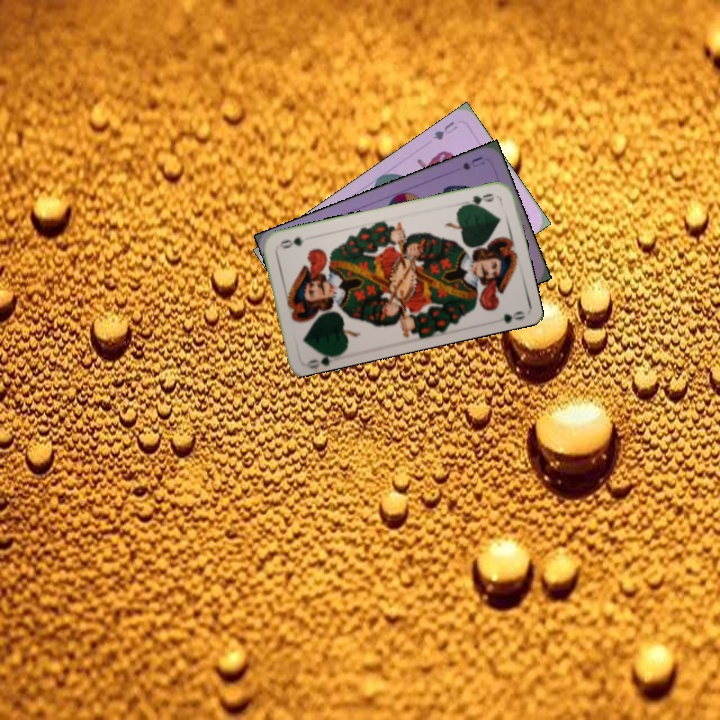GO: (303, 347, 342, 370), (460, 189, 497, 209)
GU: (429, 117, 460, 143)
SU: (458, 152, 487, 173)
